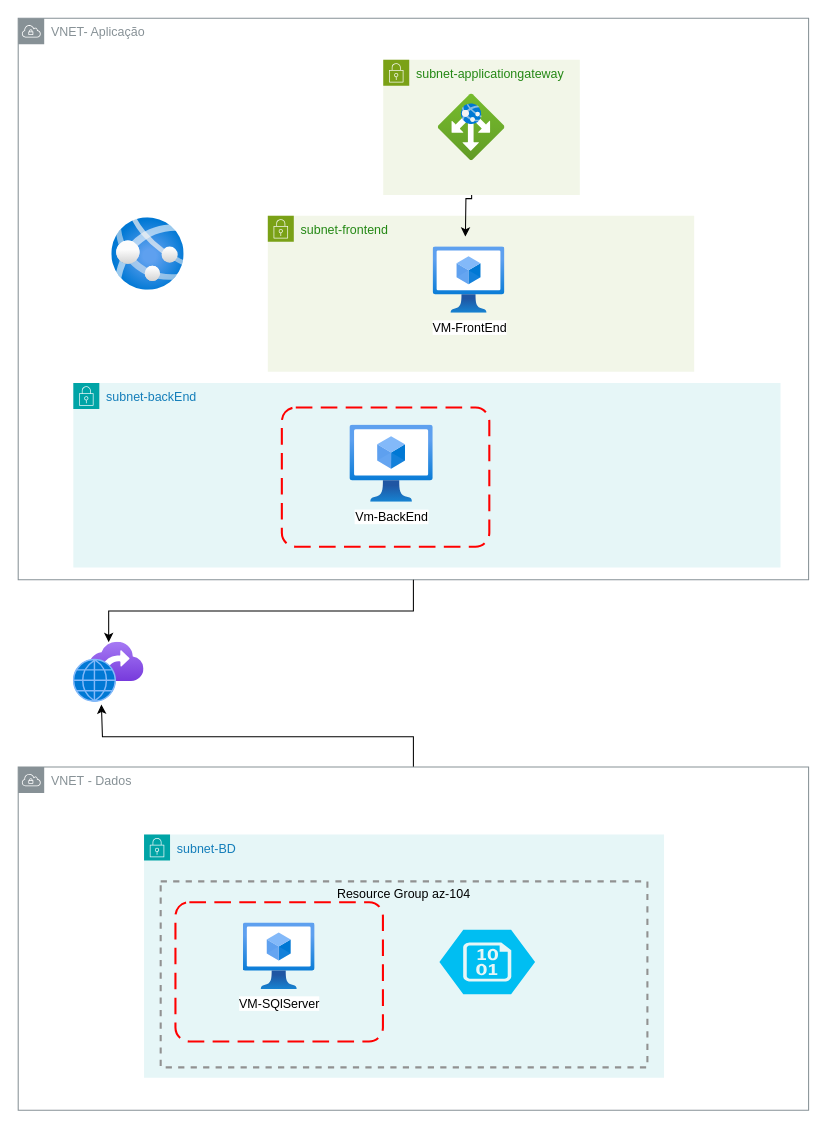
Some shapes in this 827 by 1128 pixel diagram are drawn without their labels. Each missing label, with the centre of its shape:
App service: [147,253]
Azure Application Gateway: [471,127]
Peering: [108,672]
Storage Blob: [487,961]
